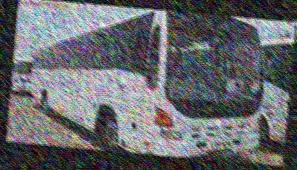bus: (25, 0, 271, 165), (251, 35, 295, 151)
